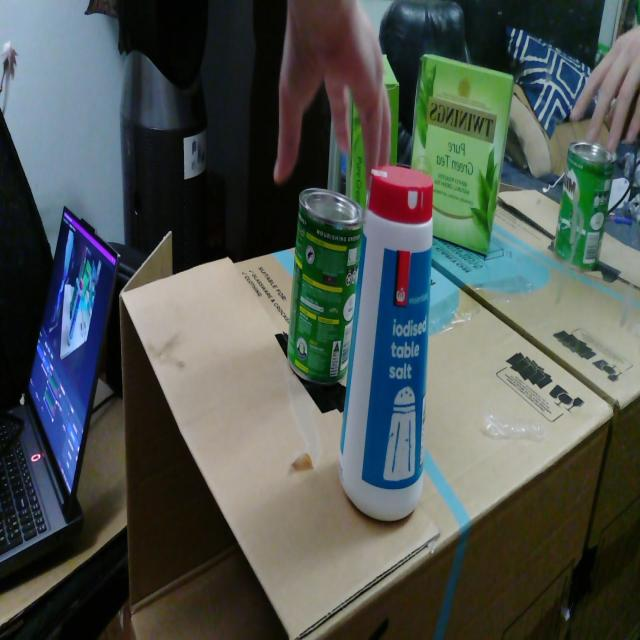nestle_milo_tin: (287, 188, 365, 384)
twinings_greentea_box: (346, 94, 368, 210), (383, 55, 399, 165)
woolworths_salt_bottle: (339, 166, 433, 520)
